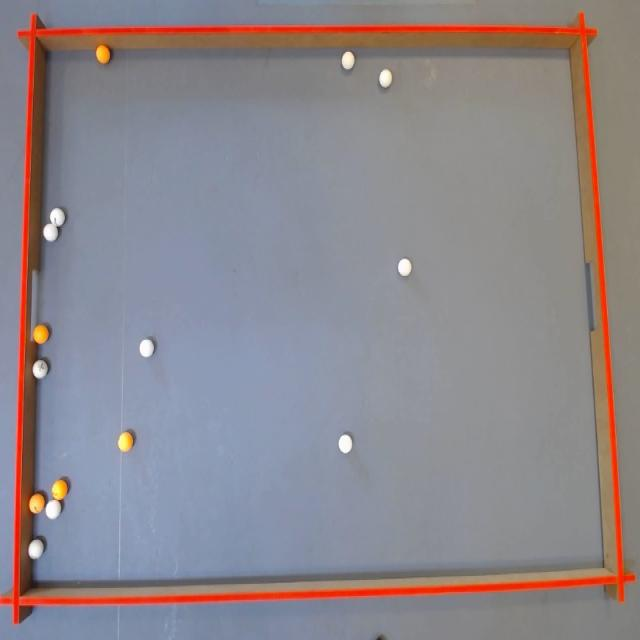orange_ball: (51, 479, 68, 500), (29, 493, 45, 514), (33, 324, 49, 344), (118, 432, 133, 452), (96, 44, 110, 64)
white_ball: (28, 538, 44, 559), (50, 208, 66, 228), (46, 500, 61, 520), (33, 360, 48, 379), (43, 223, 58, 242), (338, 434, 352, 454), (140, 339, 154, 358), (379, 69, 392, 88), (398, 258, 411, 276), (342, 51, 354, 70)
